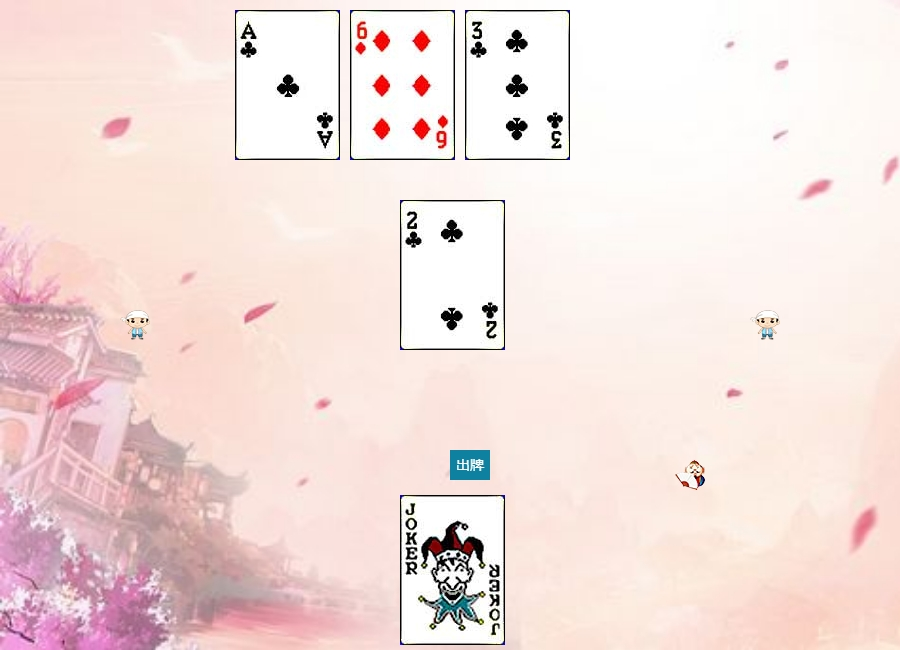14~2: (235, 10, 340, 160)
15~2: (400, 200, 505, 350)
17~3: (400, 495, 505, 645)
3~2: (465, 10, 570, 160)
6~1: (350, 10, 455, 160)
